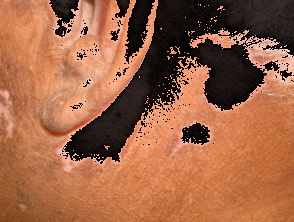vitiligo: (29, 63, 188, 212)
